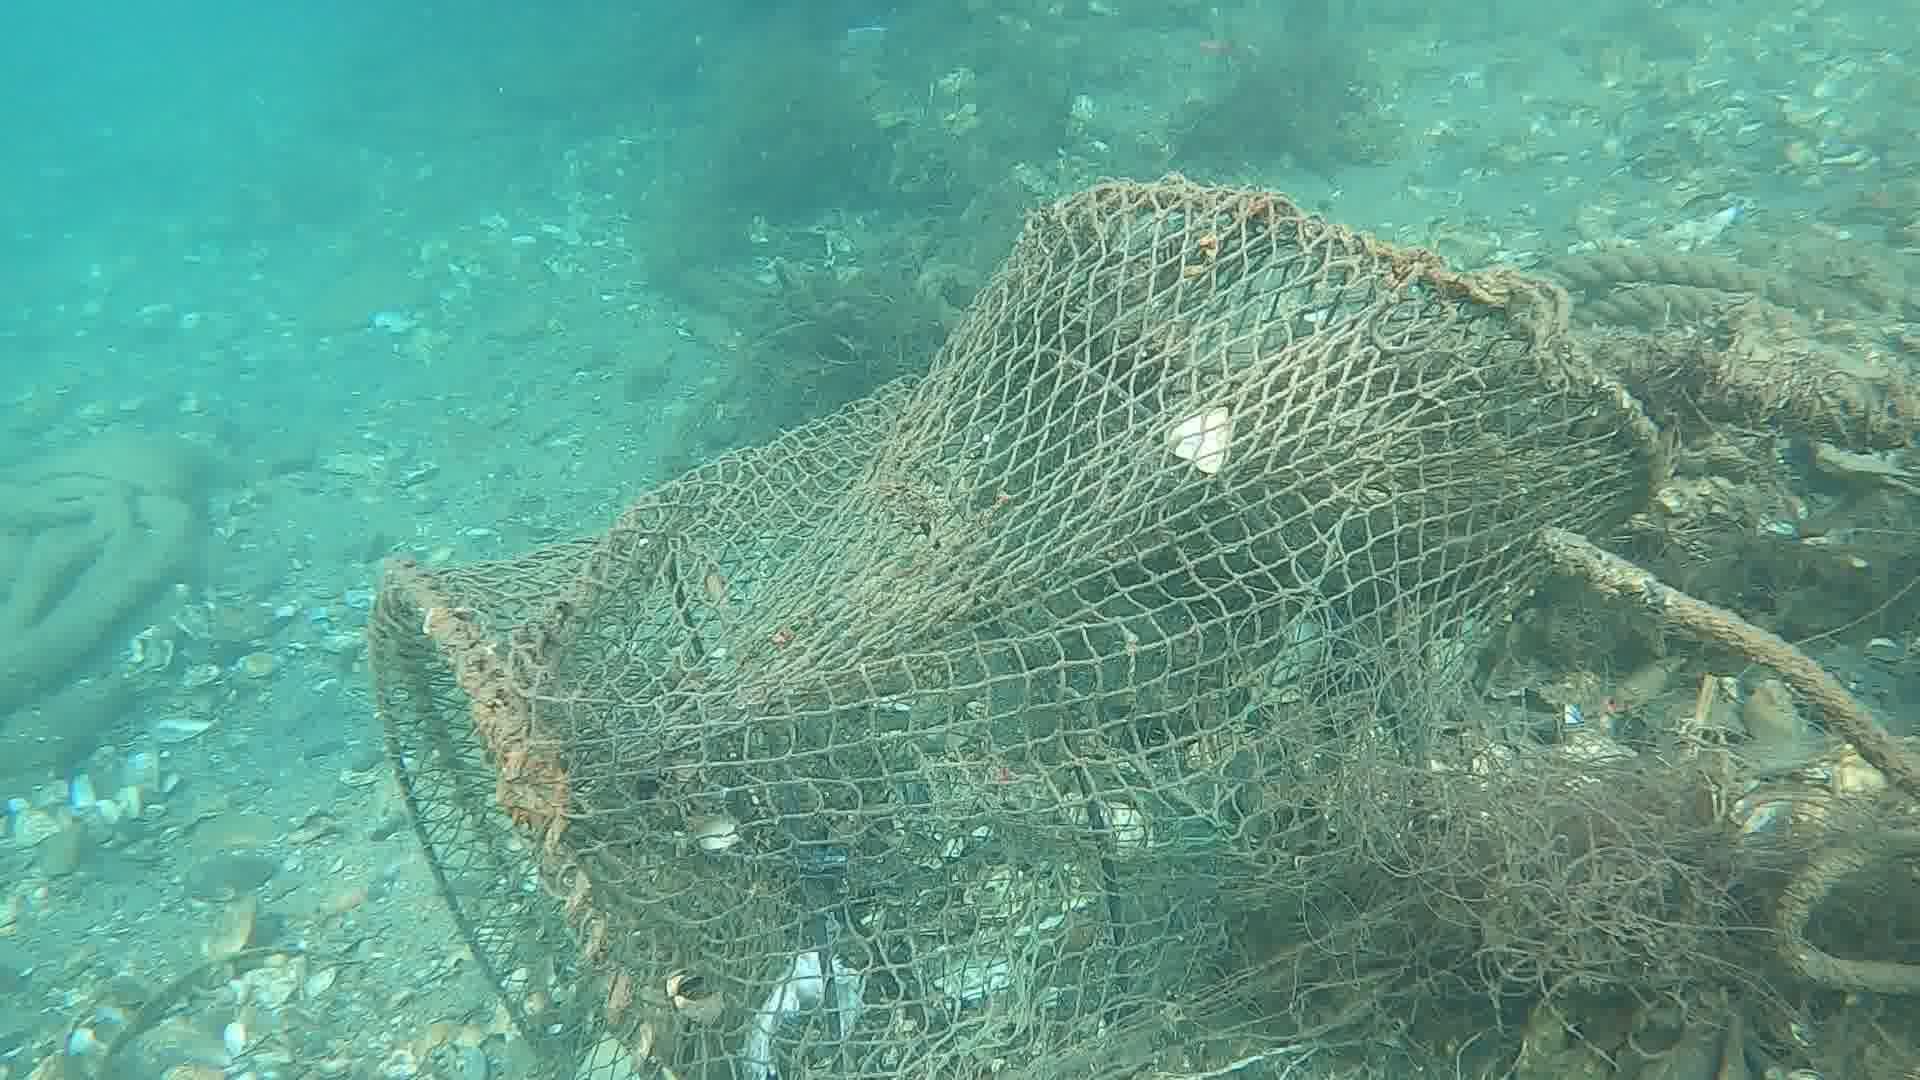rope: (1510, 243, 1855, 330)
spring fish trap: (363, 173, 1669, 1080)
